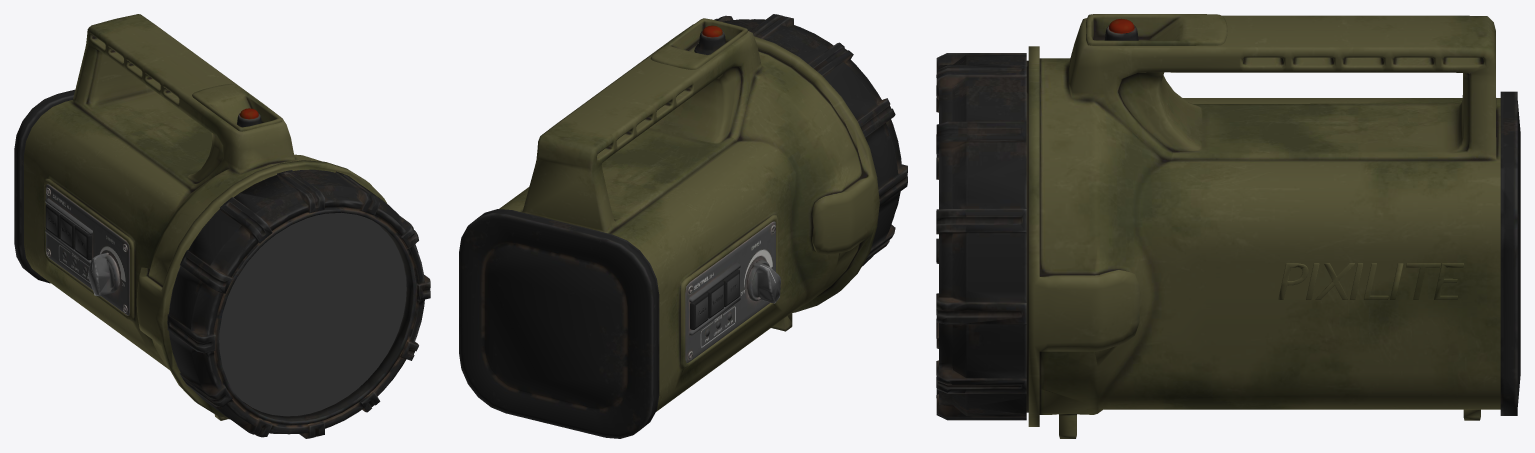
Rendered from portable_searchlight_2k.glb.
3 renders of one model, left to right at view 1: azimuth 30°, elevation 25°; view 2: azimuth 150°, elevation 25°; view 3: azimuth 270°, elevation 25°, orthographic. The views are drawn at different scales.
Visible parts, largest first — view 1: portable_searchlight; view 2: portable_searchlight; view 3: portable_searchlight.
Part boxes in pixels (left/top/right/bottom): portable_searchlight: left=14, top=14, right=430, bottom=438; portable_searchlight: left=459, top=14, right=907, bottom=438; portable_searchlight: left=936, top=14, right=1520, bottom=438.
Size of the model in its own units: 0.1653 by 0.1853 by 0.2534.
Materials: 2 (2 with a texture image).
